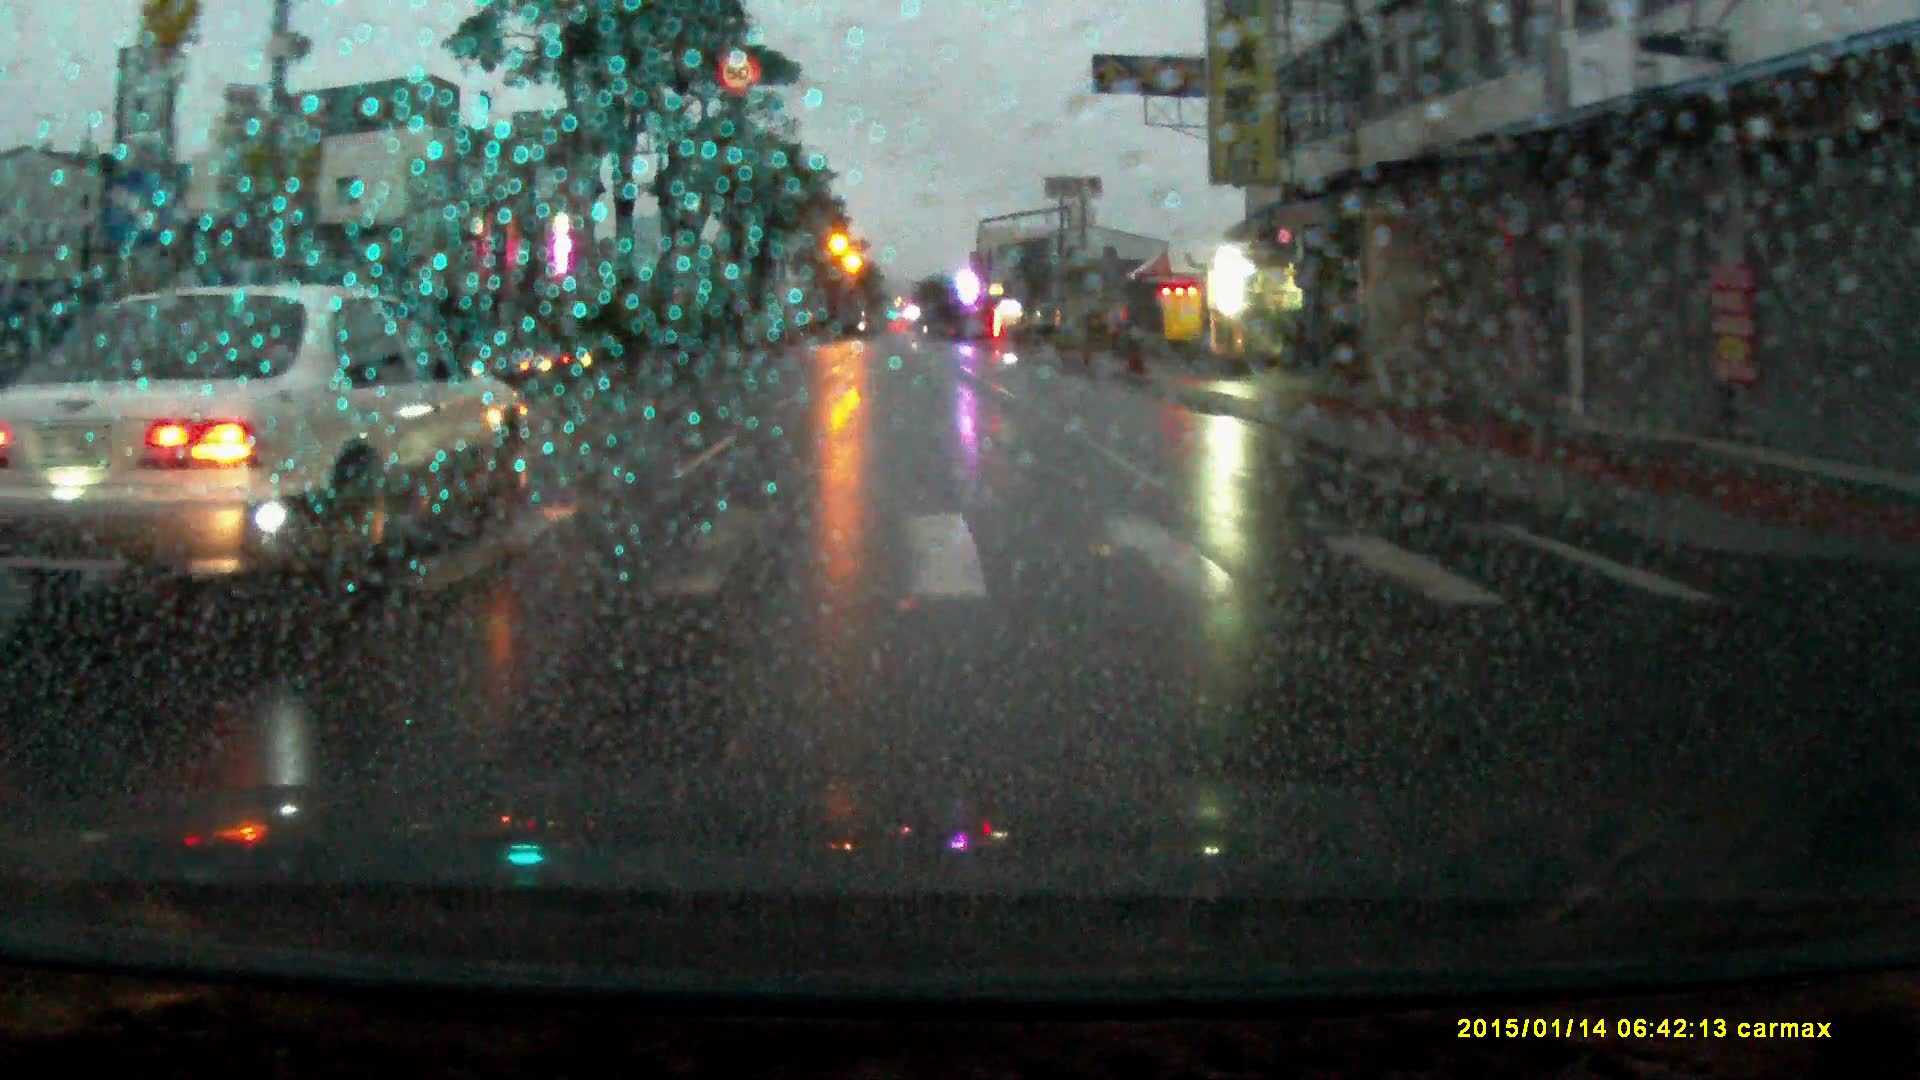vehicle: (1, 281, 531, 621)
